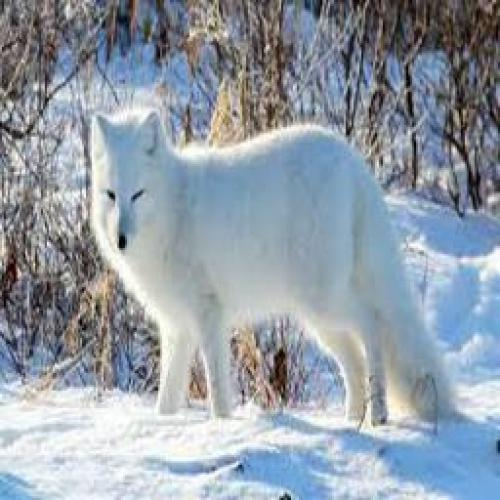arctic_fox-endangered: (85, 107, 452, 428)
